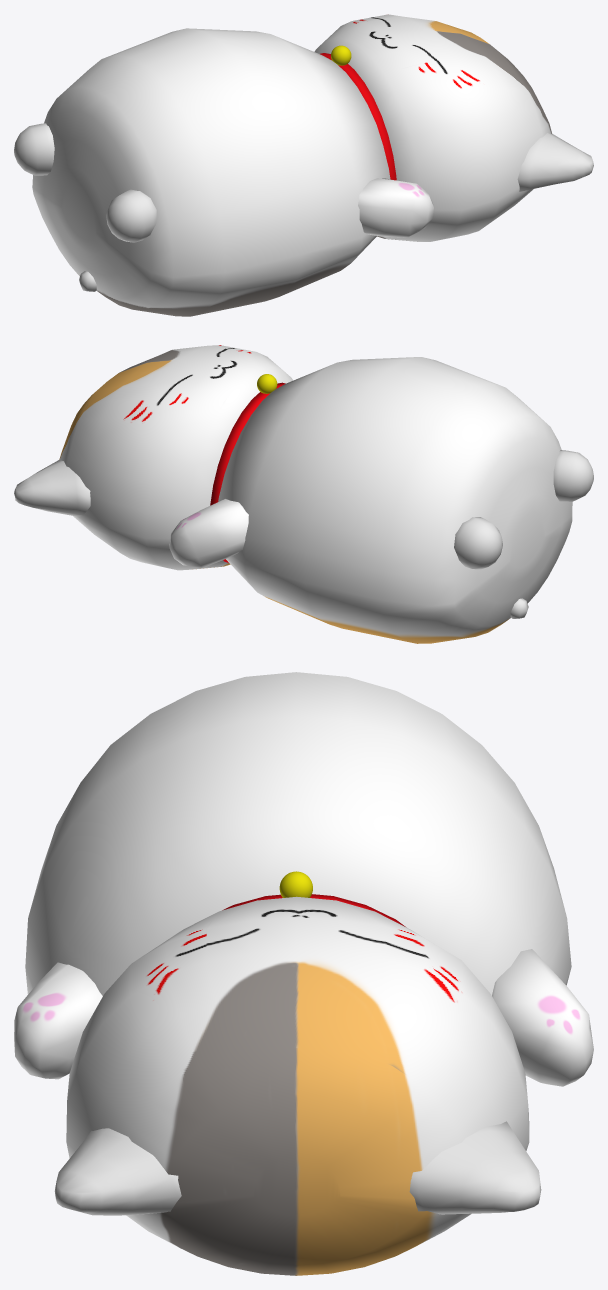
File: nyanko3_0313.gltf
The picture shows the model from 3 angles, top to bottom: view 1: azimuth 30°, elevation 25°; view 2: azimuth 150°, elevation 25°; view 3: azimuth 270°, elevation 25°; orthographic projection. The views are drawn at different scales.
Parts seen in each view (by area): view 1: body, head, lefthand, leftear, leftreg, rightreg, Circle; view 2: body, head, righthand, rightear, rightreg, leftreg, Circle; view 3: head, body, righthand, rightear, leftear, lefthand.
Boxes of the visible parts, x1,y1,x2,y2 form: body: (32, 28, 390, 316); head: (314, 14, 551, 241); lefthand: (358, 178, 433, 237); leftear: (517, 133, 593, 191); leftreg: (106, 189, 156, 242); rightreg: (14, 123, 54, 175); Circle: (320, 53, 396, 180); body: (218, 357, 572, 643); head: (59, 345, 292, 570); righthand: (169, 499, 248, 568); rightear: (14, 460, 90, 516); rightreg: (454, 517, 502, 569); leftreg: (553, 450, 593, 501); Circle: (210, 382, 285, 562); head: (66, 896, 529, 1275); body: (25, 672, 571, 995); righthand: (492, 949, 593, 1086); rightear: (409, 1121, 541, 1214); leftear: (54, 1128, 181, 1215); lefthand: (14, 962, 102, 1079).
Bounding box in the file's own units: 4.78 × 2.41 × 3.17.
11 materials, 4 textured.
